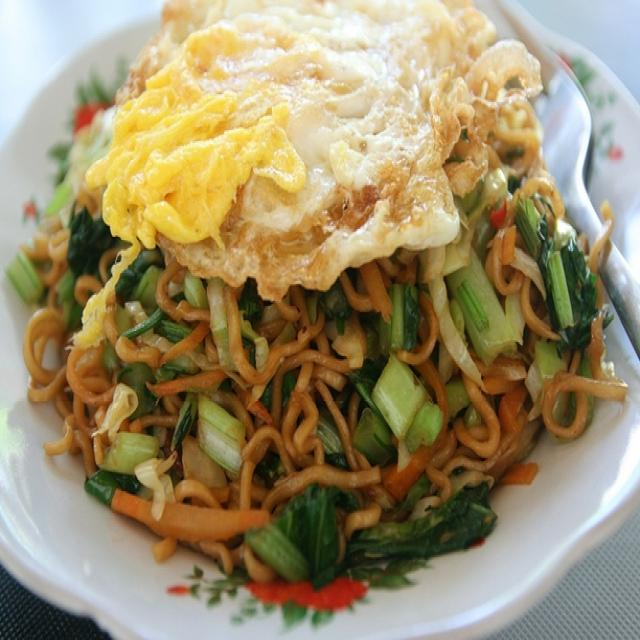面条主食: (22, 16, 621, 610)
